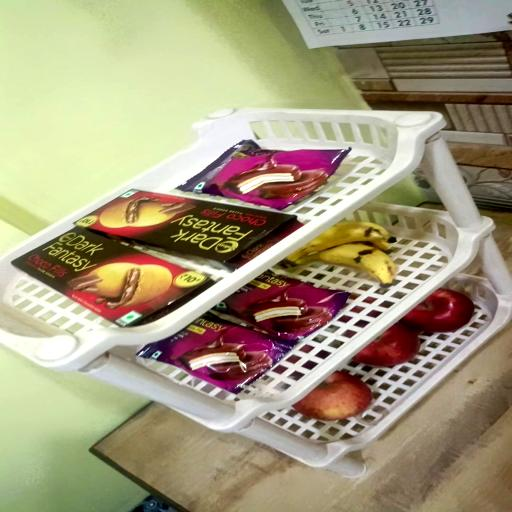Apple: (294, 370, 372, 420), (400, 290, 474, 334), (351, 322, 420, 366)
Choco Fills: (10, 198, 215, 326), (74, 189, 297, 266)
Choco Pie: (138, 309, 292, 395), (179, 145, 351, 213), (224, 271, 350, 342)
